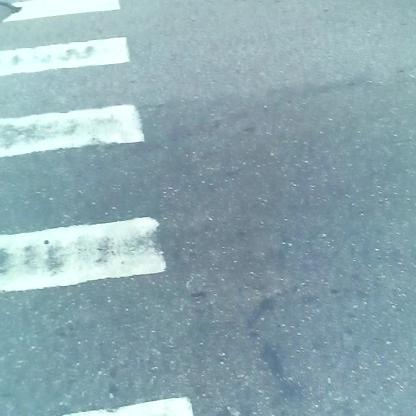crosswalk: (1, 8, 195, 416)
